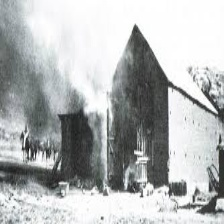smoke: (1, 7, 70, 131)
